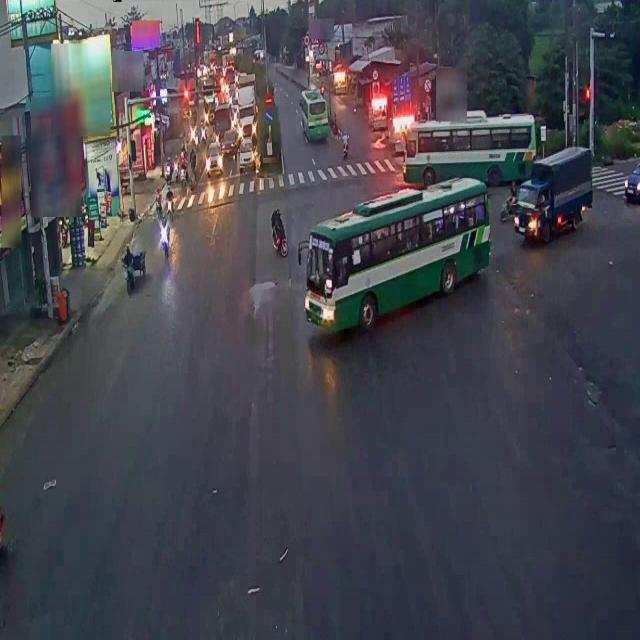bus: (306, 181, 497, 347)
motorcycle: (270, 204, 288, 260)
